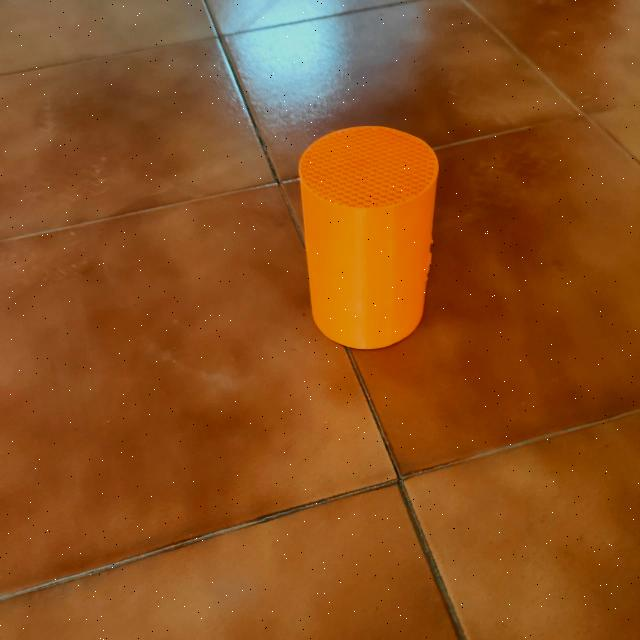Cylinder: (298, 124, 441, 350)
